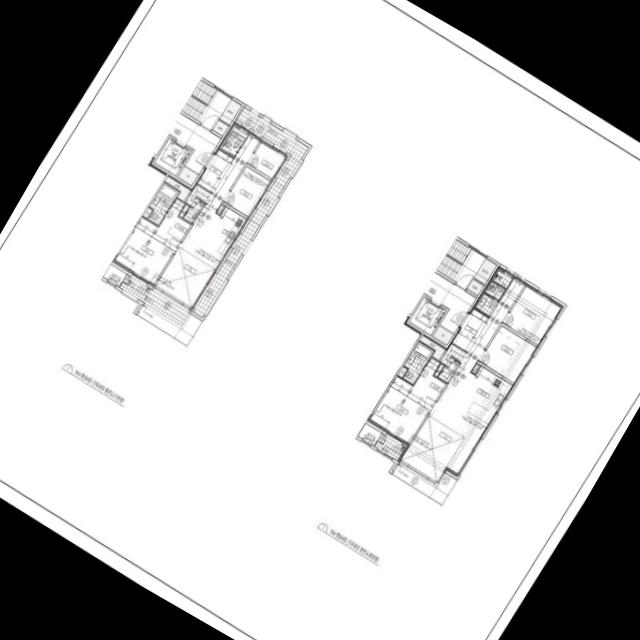background: (0, 0, 640, 640)
space_balconi: (193, 107, 308, 317), (119, 274, 189, 326), (374, 433, 405, 460)
space_bedroom: (367, 376, 435, 445), (112, 217, 180, 286), (503, 284, 563, 345), (479, 326, 537, 383), (224, 166, 271, 217), (248, 140, 287, 179)
space_dressroom: (413, 358, 445, 400), (158, 198, 190, 240)
space_elevator: (409, 297, 446, 335), (154, 138, 191, 175)
space_elevator_hall: (422, 272, 476, 333), (167, 113, 221, 174)
space_front: (196, 148, 234, 193), (451, 308, 488, 352)
space_kitchen: (189, 207, 247, 270), (456, 366, 513, 425)
space_living_room: (398, 276, 525, 482), (155, 132, 261, 307)
space_other: (419, 334, 447, 361), (164, 175, 191, 201), (474, 258, 496, 284), (219, 99, 241, 125), (183, 198, 204, 223), (438, 359, 459, 382), (432, 325, 453, 345), (177, 166, 198, 185), (467, 279, 483, 295), (212, 120, 228, 136), (179, 204, 189, 217), (434, 364, 444, 376), (142, 207, 152, 218), (398, 367, 407, 377), (471, 363, 480, 373), (216, 204, 225, 214)
space_outdoor_room: (357, 423, 381, 445), (103, 264, 126, 286)
space_staircase: (436, 239, 486, 288), (181, 80, 231, 129), (440, 343, 467, 366), (185, 184, 212, 207)
space_toilet: (475, 270, 512, 316), (403, 341, 433, 384), (148, 182, 178, 225), (220, 126, 248, 156)
